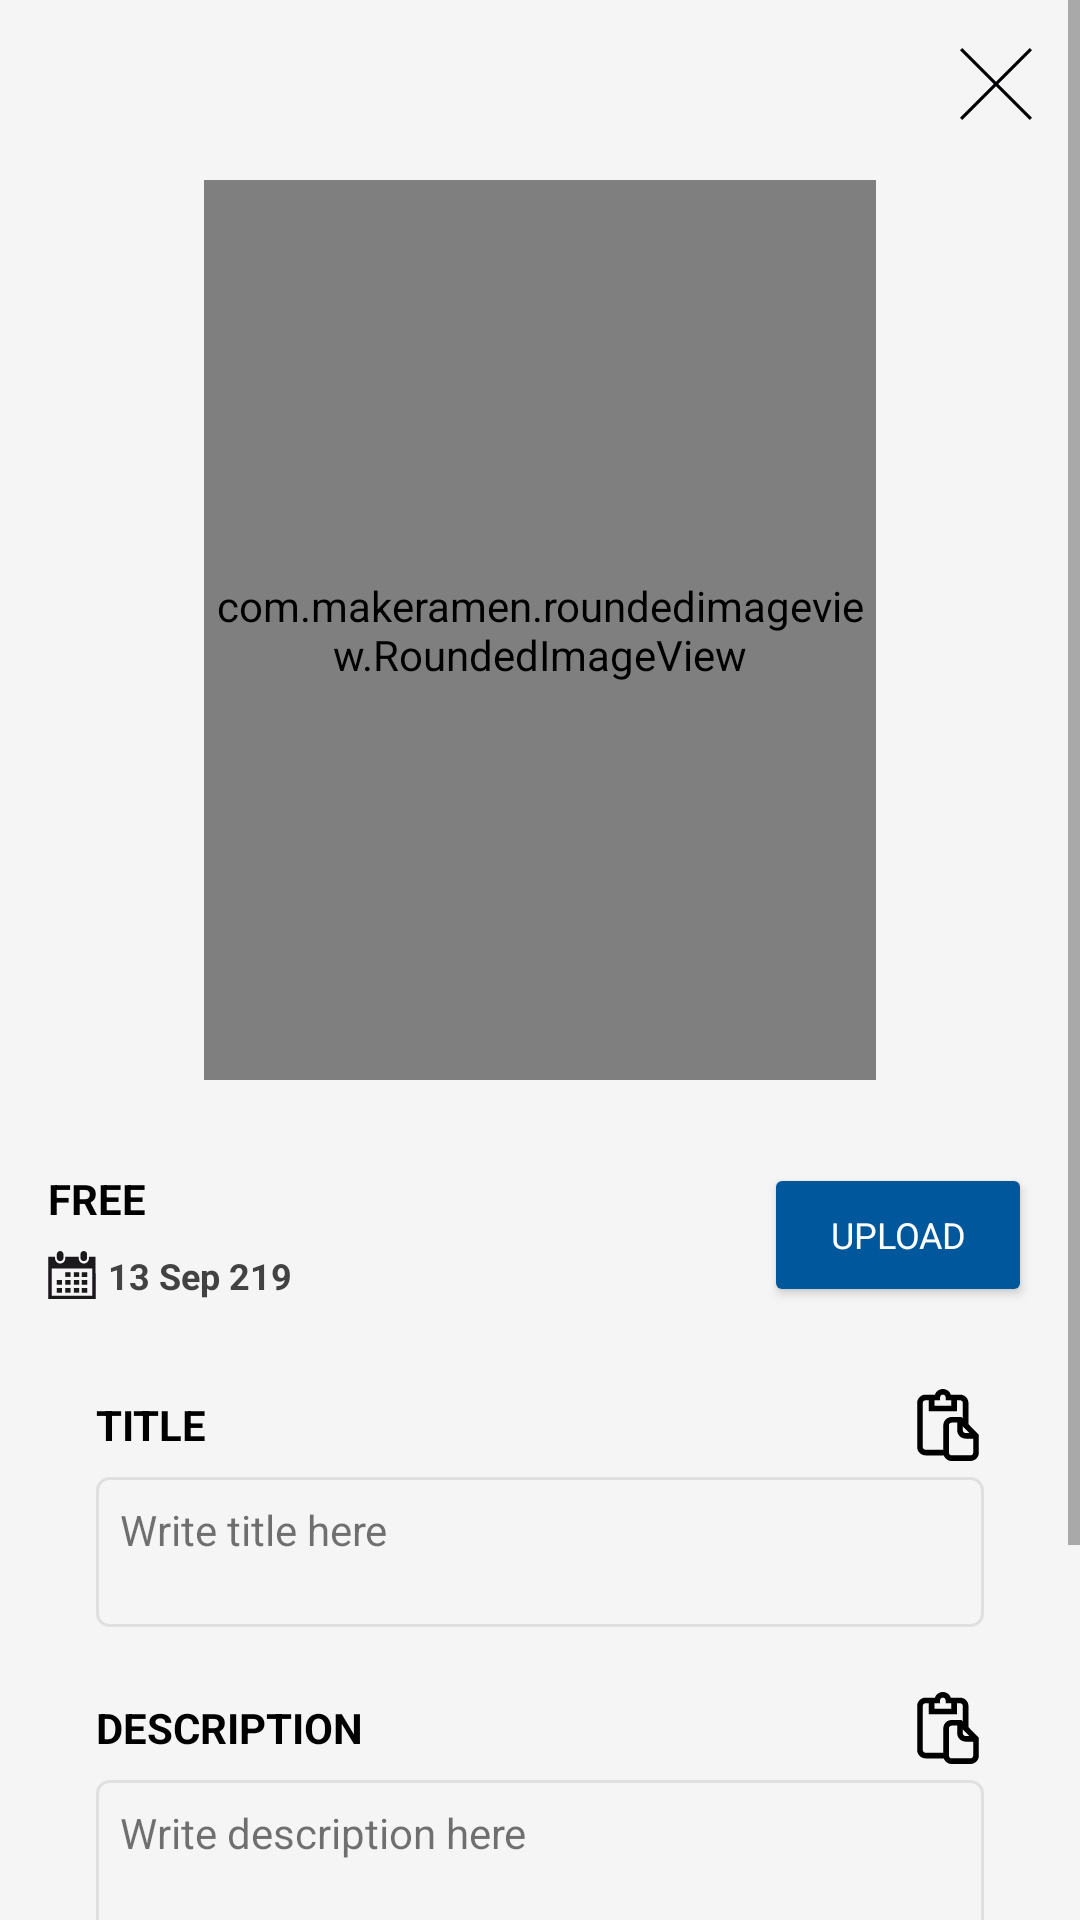

Icons on this 1080px×1920px Android screen, each with the point to tap as [x,y]:
close: [996,84]
paste: [948,1425], [948,1728]
